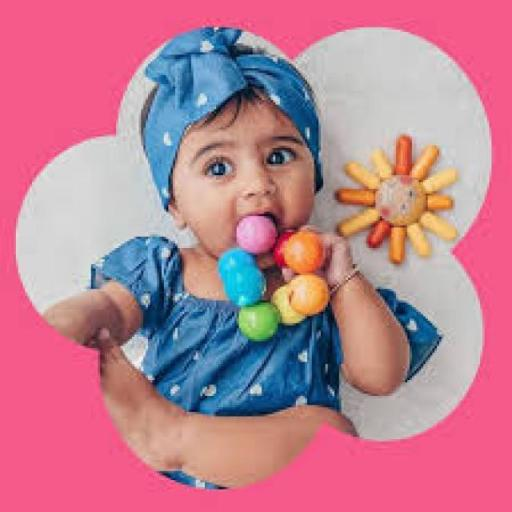baby: (45, 23, 440, 490)
